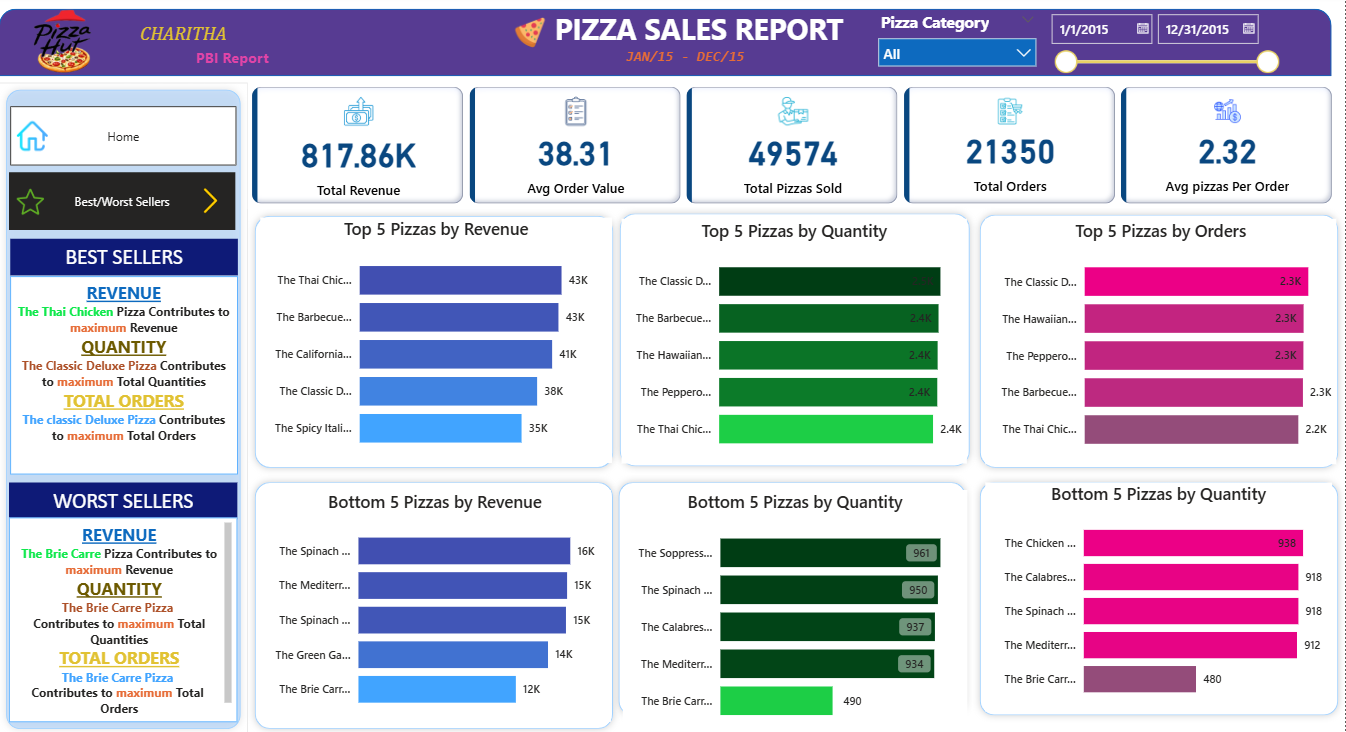

This screenshot's page, from the dashboard's own definition file:
{"tool":"powerbi","page":{"name":"Best/Worst Sellers","canvas":[1500,820],"ordinal":1},"visuals":[{"type":"shape","box":[0,91.9,277.1,728.4],"z":0},{"type":"cardVisual","fields":{"Data":["pizza_sales.Total Revenue","pizza_sales.Avg Order Value","pizza_sales.Total Pizzas Sold","pizza_sales.Total Orders","pizza_sales.Avg pizzas Per Order"]},"box":[277.1,91.9,1217.2,140.7],"z":1000},{"type":"shape","box":[0,9.7,1484.6,75.2],"z":2000},{"type":"textbox","box":[614.2,5.6,384.4,59.9],"z":3000},{"type":"textbox","box":[693.5,48.7,153.2,32],"z":4000},{"type":"image","box":[569.6,12.5,44.6,47.4],"z":5000},{"type":"textbox","box":[12.2,266.7,253.3,41.1],"z":6000},{"type":"textbox","box":[12.2,307.8,253.3,221.1],"z":7000},{"type":"textbox","box":[11,538,254,41],"z":8000},{"type":"textbox","box":[11,577,254,228],"z":9000},{"type":"slicer","fields":{"Values":["pizza_sales.order_date"]},"box":[1160.1,5.6,274.4,79.4],"z":10000},{"type":"slicer","fields":{"Values":["pizza_sales.pizza_category"]},"box":[969.3,8.4,196.4,69.6],"z":11000},{"type":"shape","box":[277.1,232.6,415,296.6],"z":12000},{"type":"shape","box":[683.9,229.9,405.7,297.7],"z":13000},{"type":"shape","box":[1084.9,231.2,415,298],"z":14000},{"type":"shape","box":[277,528.7,414.9,290.8],"z":15000},{"type":"shape","box":[682.4,529.2,402.5,275.7],"z":16000},{"type":"shape","box":[1084.9,529.2,415,275.7],"z":17000},{"type":"barChart","title":"Top 5 Pizzas by Revenue","fields":{"Category":["pizza_sales.pizza_name"],"Y":["pizza_sales.Total Revenue"]},"box":[290.8,242.5,392,273.6],"z":18000},{"type":"barChart","title":"Bottom 5 Pizzas by Revenue","fields":{"Category":["pizza_sales.pizza_name"],"Y":["pizza_sales.Total Revenue"]},"box":[289.7,546,392,258.6],"z":19000},{"type":"barChart","title":"Top 5 Pizzas by Quantity","fields":{"Category":["pizza_sales.pizza_name"],"Y":["pizza_sales.Total Pizzas Sold"]},"box":[693,244,385,273],"z":20000},{"type":"barChart","title":"Bottom 5 Pizzas by Quantity","fields":{"Category":["pizza_sales.pizza_name"],"Y":["pizza_sales.Total Pizzas Sold"]},"box":[694.3,546,383.9,273.6],"z":21000},{"type":"barChart","title":"Top 5 Pizzas by Orders","fields":{"Category":["pizza_sales.pizza_name"],"Y":["pizza_sales.Total Orders"]},"box":[1098.9,243.7,390.8,273.6],"z":22000},{"type":"barChart","title":"Bottom 5 Pizzas by Quantity","fields":{"Category":["pizza_sales.pizza_name"],"Y":["pizza_sales.Total Orders"]},"box":[1098.9,537.9,386.2,255.2],"z":23000},{"type":"pageNavigator","box":[11.1,192.2,252.1,64.1],"z":24000},{"type":"pageNavigator","box":[12.5,118.4,252.1,66.8],"z":25000},{"type":"image","box":[208.9,204.7,54.3,37.6],"z":26000},{"type":"image","box":[11.1,129.5,51.5,44.6],"z":27000},{"type":"image","box":[7,204.7,55.7,40.4],"z":28000},{"type":"image","box":[16.7,0,107.2,91.9],"z":29000},{"type":"textbox","box":[133.7,19.5,143.4,40.4],"z":30000},{"type":"textbox","box":[214.5,47.4,103.1,40.4],"z":31000}]}

Visuals, with their boxes in screenshot pixels (x1, y1, x2, y2), scaled from the page's 1500x820 canvas onto the 1346x732 screenshot:
shape: crop(0, 82, 249, 731)
cardVisual - pizza_sales.Total Revenue x pizza_sales.Avg Order Value: crop(249, 82, 1341, 208)
shape: crop(0, 9, 1332, 76)
textbox: crop(551, 5, 896, 58)
textbox: crop(622, 43, 760, 72)
image: crop(511, 11, 551, 53)
textbox: crop(11, 238, 238, 275)
textbox: crop(11, 275, 238, 472)
textbox: crop(10, 480, 238, 517)
textbox: crop(10, 515, 238, 719)
slicer - pizza_sales.order_date: crop(1041, 5, 1287, 76)
slicer - pizza_sales.pizza_category: crop(870, 7, 1046, 70)
shape: crop(249, 208, 621, 472)
shape: crop(614, 205, 978, 471)
shape: crop(974, 206, 1345, 472)
shape: crop(249, 472, 621, 731)
shape: crop(612, 472, 974, 719)
shape: crop(974, 472, 1345, 719)
"Top 5 Pizzas by Revenue" barChart: crop(261, 216, 613, 461)
"Bottom 5 Pizzas by Revenue" barChart: crop(260, 487, 612, 718)
"Top 5 Pizzas by Quantity" barChart: crop(622, 218, 967, 462)
"Bottom 5 Pizzas by Quantity" barChart: crop(623, 487, 968, 731)
"Top 5 Pizzas by Orders" barChart: crop(986, 218, 1337, 462)
"Bottom 5 Pizzas by Quantity" barChart: crop(986, 480, 1333, 708)
pageNavigator: crop(10, 172, 236, 229)
pageNavigator: crop(11, 106, 237, 165)
image: crop(187, 183, 236, 216)
image: crop(10, 116, 56, 155)
image: crop(6, 183, 56, 219)
image: crop(15, 0, 111, 82)
textbox: crop(120, 17, 249, 53)
textbox: crop(192, 42, 285, 78)
